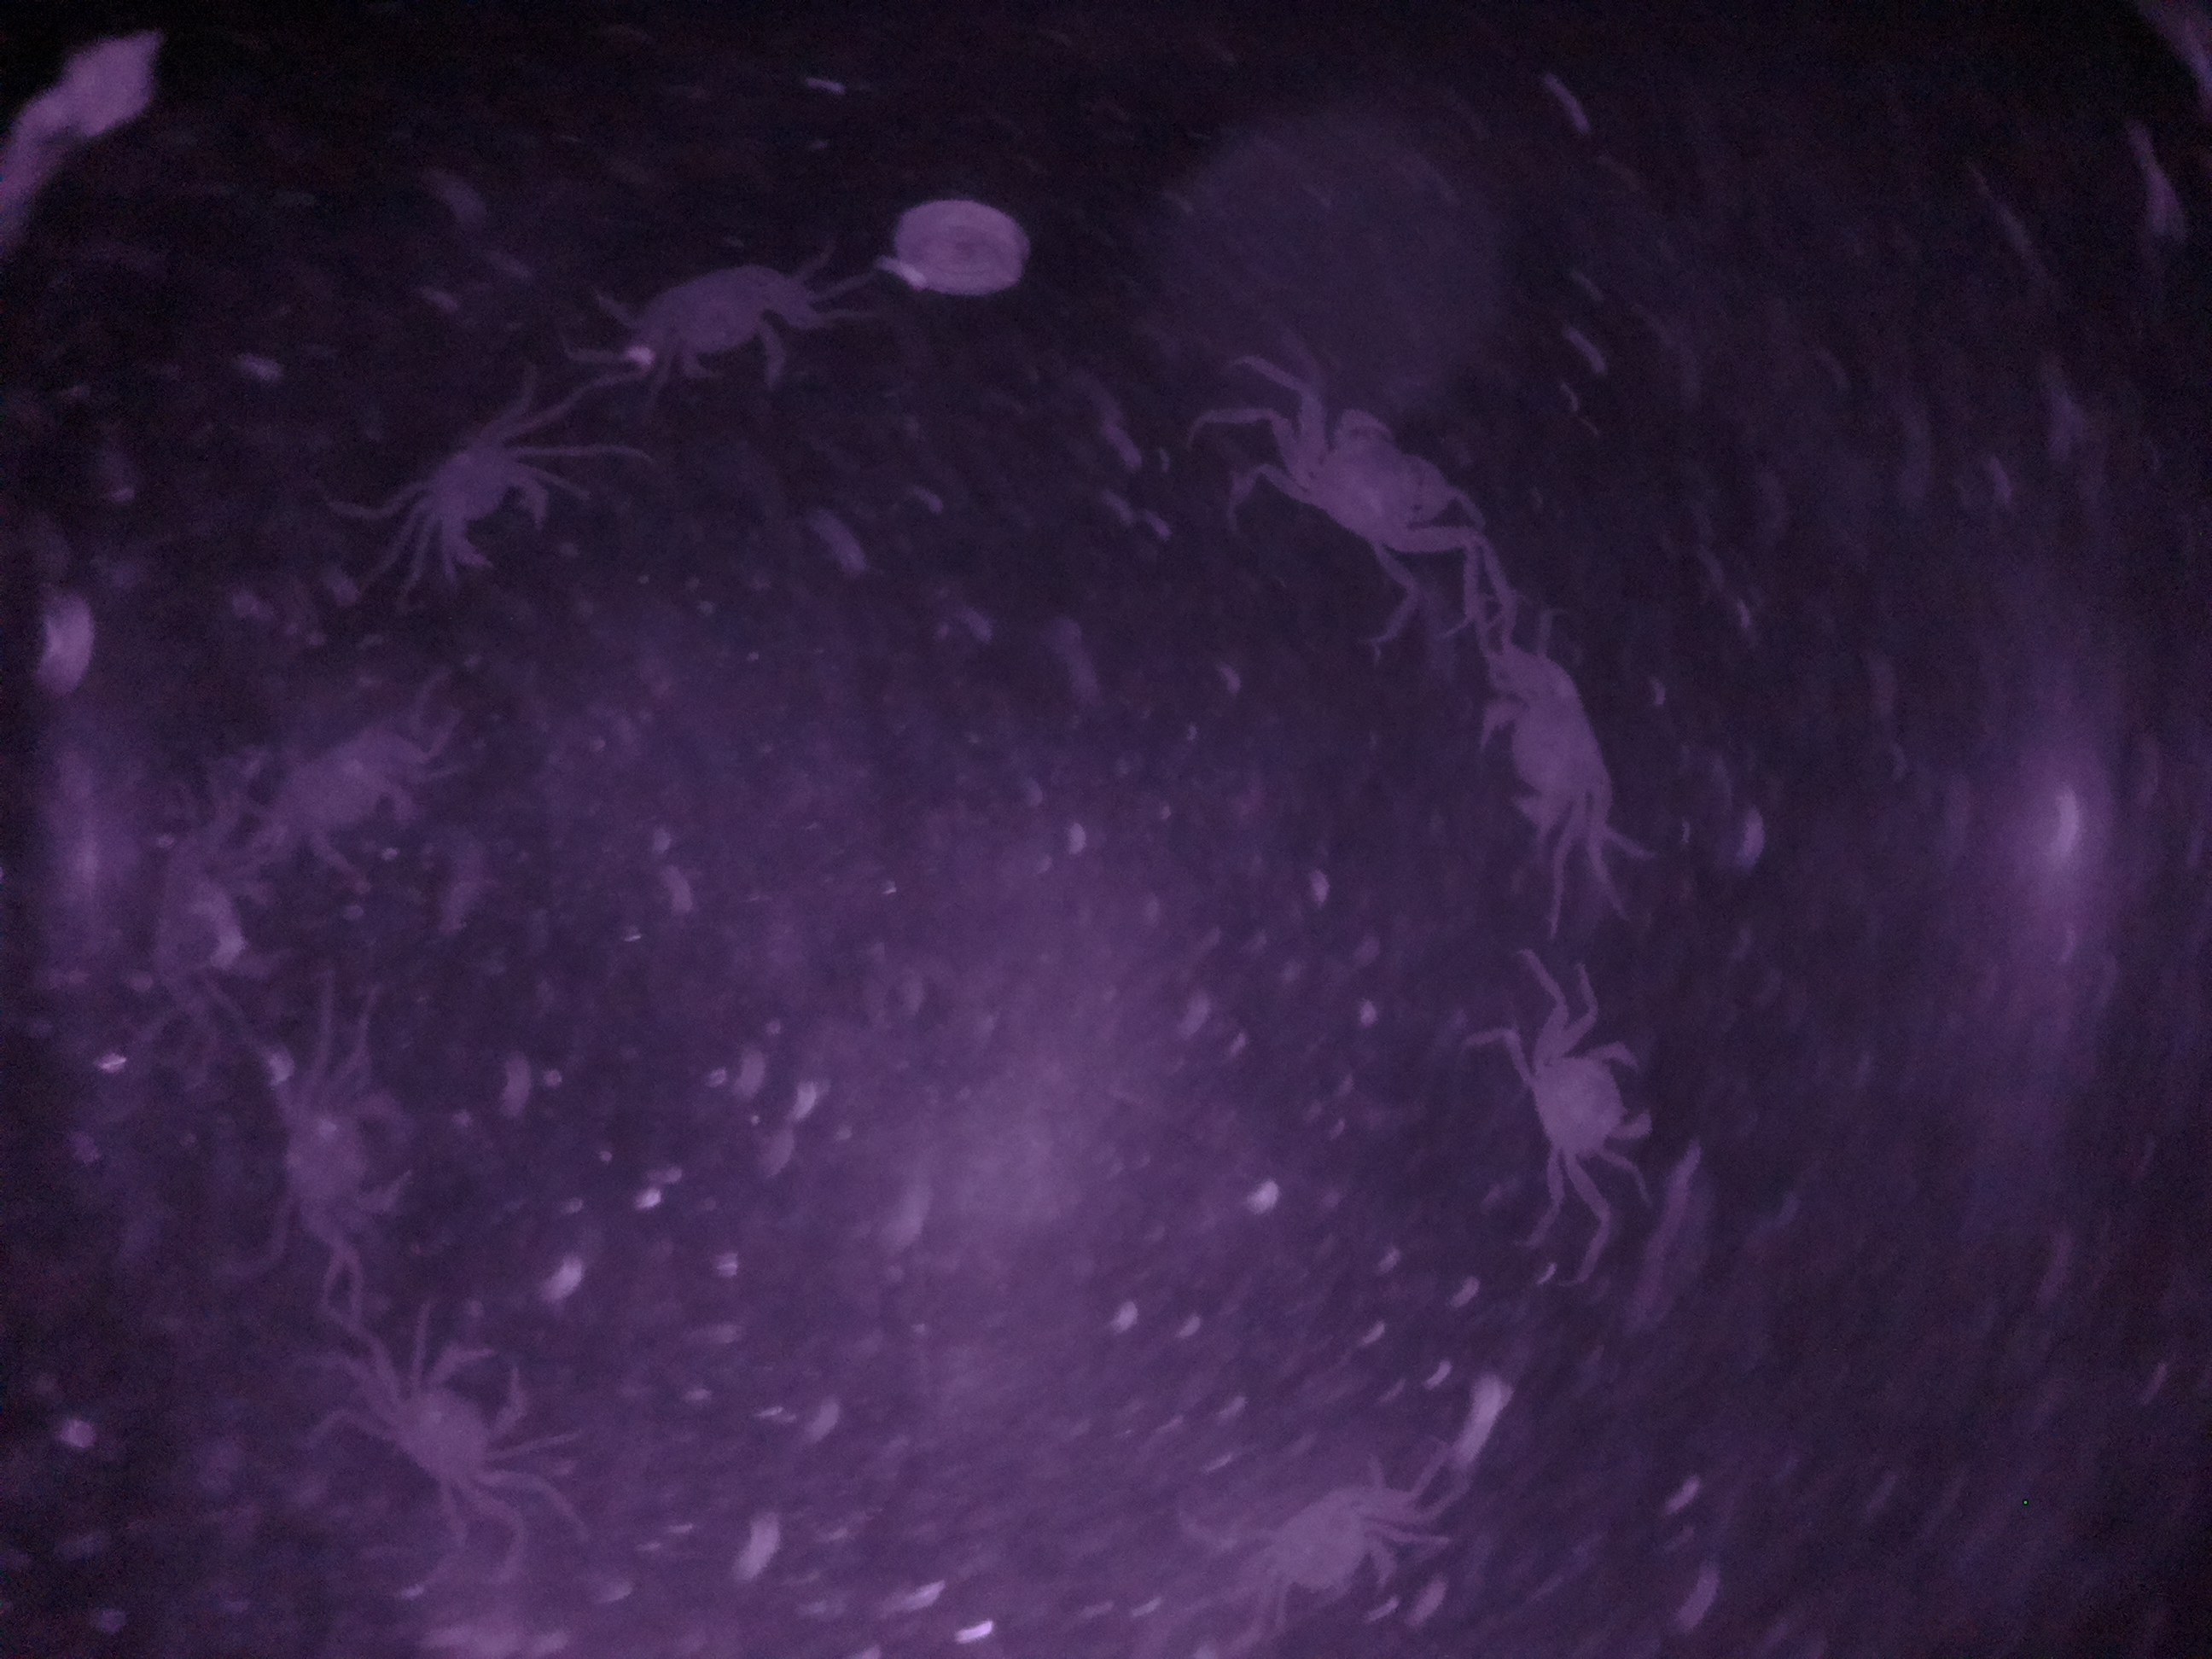Crab: (331, 1323, 585, 1575), (1237, 376, 1505, 598), (1461, 986, 1676, 1216), (1451, 660, 1665, 884), (392, 380, 580, 624), (610, 242, 843, 415)
